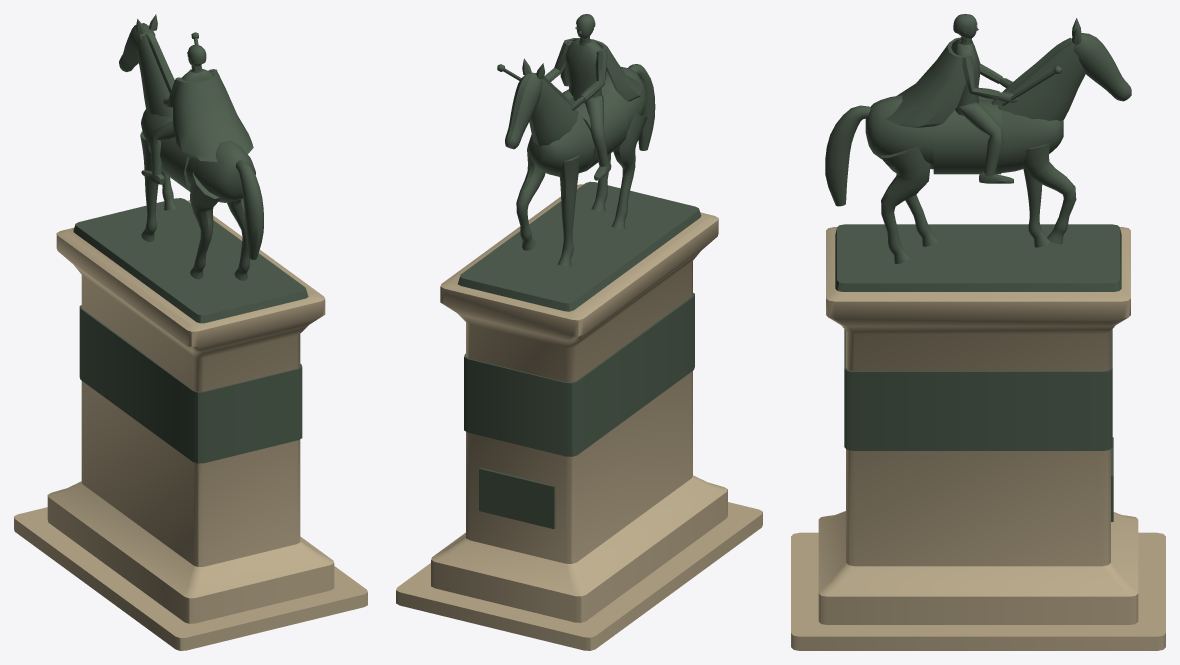
File: mon_reiter.glb
The picture shows the model from 3 angles, left to right: view 1: azimuth 30°, elevation 25°; view 2: azimuth 150°, elevation 25°; view 3: azimuth 270°, elevation 25°; orthographic projection. The views are drawn at different scales.
Visible parts, largest first — view 1: mon_reiter; view 2: mon_reiter; view 3: mon_reiter.
Part boxes in pixels (x1,y1,x2,y2): mon_reiter: (14, 14, 367, 650); mon_reiter: (396, 14, 762, 650); mon_reiter: (791, 14, 1165, 650).
Size of the model in its own units: 3.44 by 9 by 5.24.
